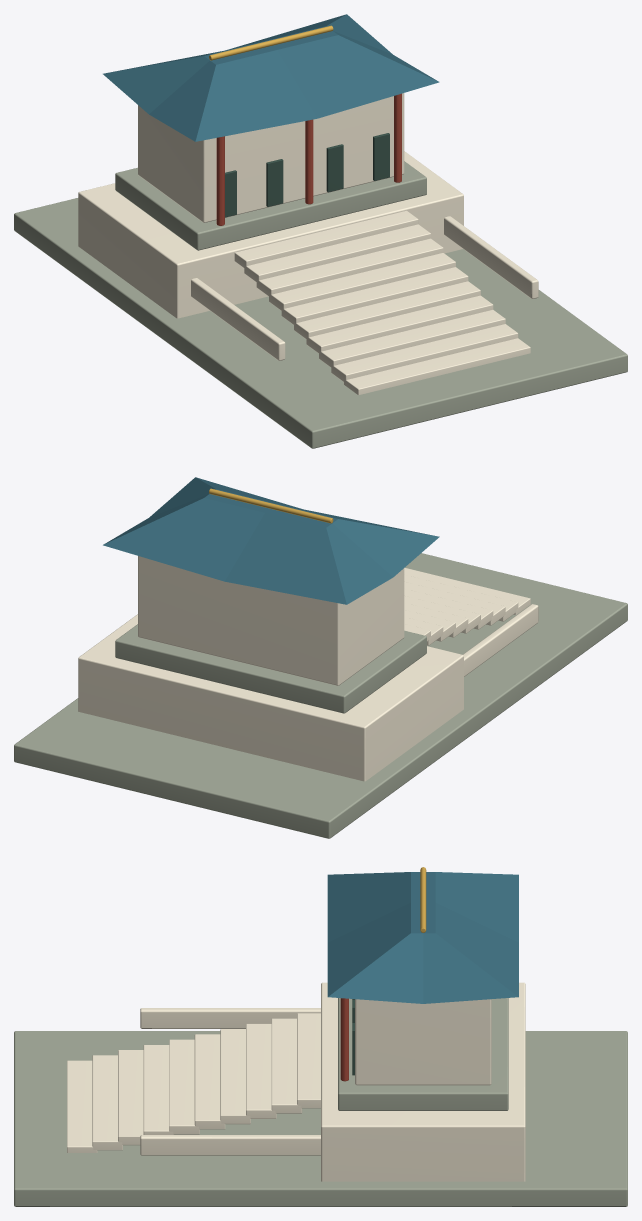
File: zhongshan-before.glb
3 views of the same model, one above another, from view 1: azimuth 30°, elevation 25°; view 2: azimuth 150°, elevation 25°; view 3: azimuth 270°, elevation 25° (orthographic). The views are drawn at different scales.
Parts seen in each view (by area): view 1: terrace, memorial hall roof, upper terrace, memorial hall body, memorial hall plinth, ceremonial steps, ceremonial steps.003, ceremonial steps.005, ceremonial steps.006, ceremonial steps.001, ceremonial steps.008, ceremonial steps.007 (+12 smaller); view 2: terrace, upper terrace, memorial hall roof, memorial hall body, memorial hall plinth, balustrade, ceremonial steps, ceremonial steps.001, ceremonial steps.002, ceremonial steps.003, memorial hall roof ridge, ceremonial steps.004 (+2 smaller); view 3: terrace, memorial hall roof, upper terrace, memorial hall body, memorial hall plinth, balustrade.001, balustrade, ceremonial steps.005, ceremonial steps.001, ceremonial steps.006, ceremonial steps.008, ceremonial steps.004 (+6 smaller).
Part boxes in pixels (box(x1,y1,x2,y2)): terrace: box(14, 198, 627, 448); memorial hall roof: box(103, 14, 439, 141); upper terrace: box(78, 151, 463, 318); memorial hall body: box(138, 93, 404, 222); memorial hall plinth: box(115, 161, 426, 250); ceremonial steps: box(343, 338, 530, 394); ceremonial steps.003: box(306, 295, 493, 354); ceremonial steps.005: box(281, 267, 468, 325); ceremonial steps.006: box(269, 253, 455, 311); ceremonial steps.001: box(331, 324, 518, 381); ceremonial steps.008: box(244, 224, 430, 282); ceremonial steps.007: box(256, 238, 443, 296); terrace: box(14, 553, 627, 838); upper terrace: box(78, 614, 463, 781); memorial hall roof: box(103, 477, 439, 604); memorial hall body: box(138, 556, 404, 685); memorial hall plinth: box(115, 624, 426, 713); balustrade: box(463, 604, 538, 676); ceremonial steps: box(404, 567, 530, 614); ceremonial steps.001: box(404, 574, 518, 621); ceremonial steps.002: box(404, 581, 505, 625); ceremonial steps.003: box(404, 589, 493, 629); memorial hall roof ridge: box(209, 488, 333, 523); ceremonial steps.004: box(404, 596, 480, 633); terrace: box(14, 1031, 627, 1206); memorial hall roof: box(327, 872, 518, 1003); upper terrace: box(321, 982, 525, 1181); memorial hall body: box(355, 999, 491, 1085); memorial hall plinth: box(338, 998, 508, 1110); balustrade.001: box(140, 1135, 320, 1155); balustrade: box(140, 1008, 320, 1028); ceremonial steps.005: box(194, 1034, 225, 1129); ceremonial steps.001: box(92, 1055, 122, 1150); ceremonial steps.006: box(220, 1029, 250, 1124); ceremonial steps.008: box(271, 1018, 302, 1113); ceremonial steps.004: box(169, 1039, 199, 1134).
Size of the model in its own units: 11 by 7.46 by 18.
